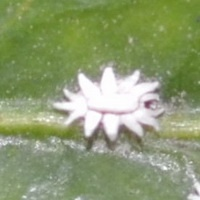insect: (53, 67, 163, 141)
